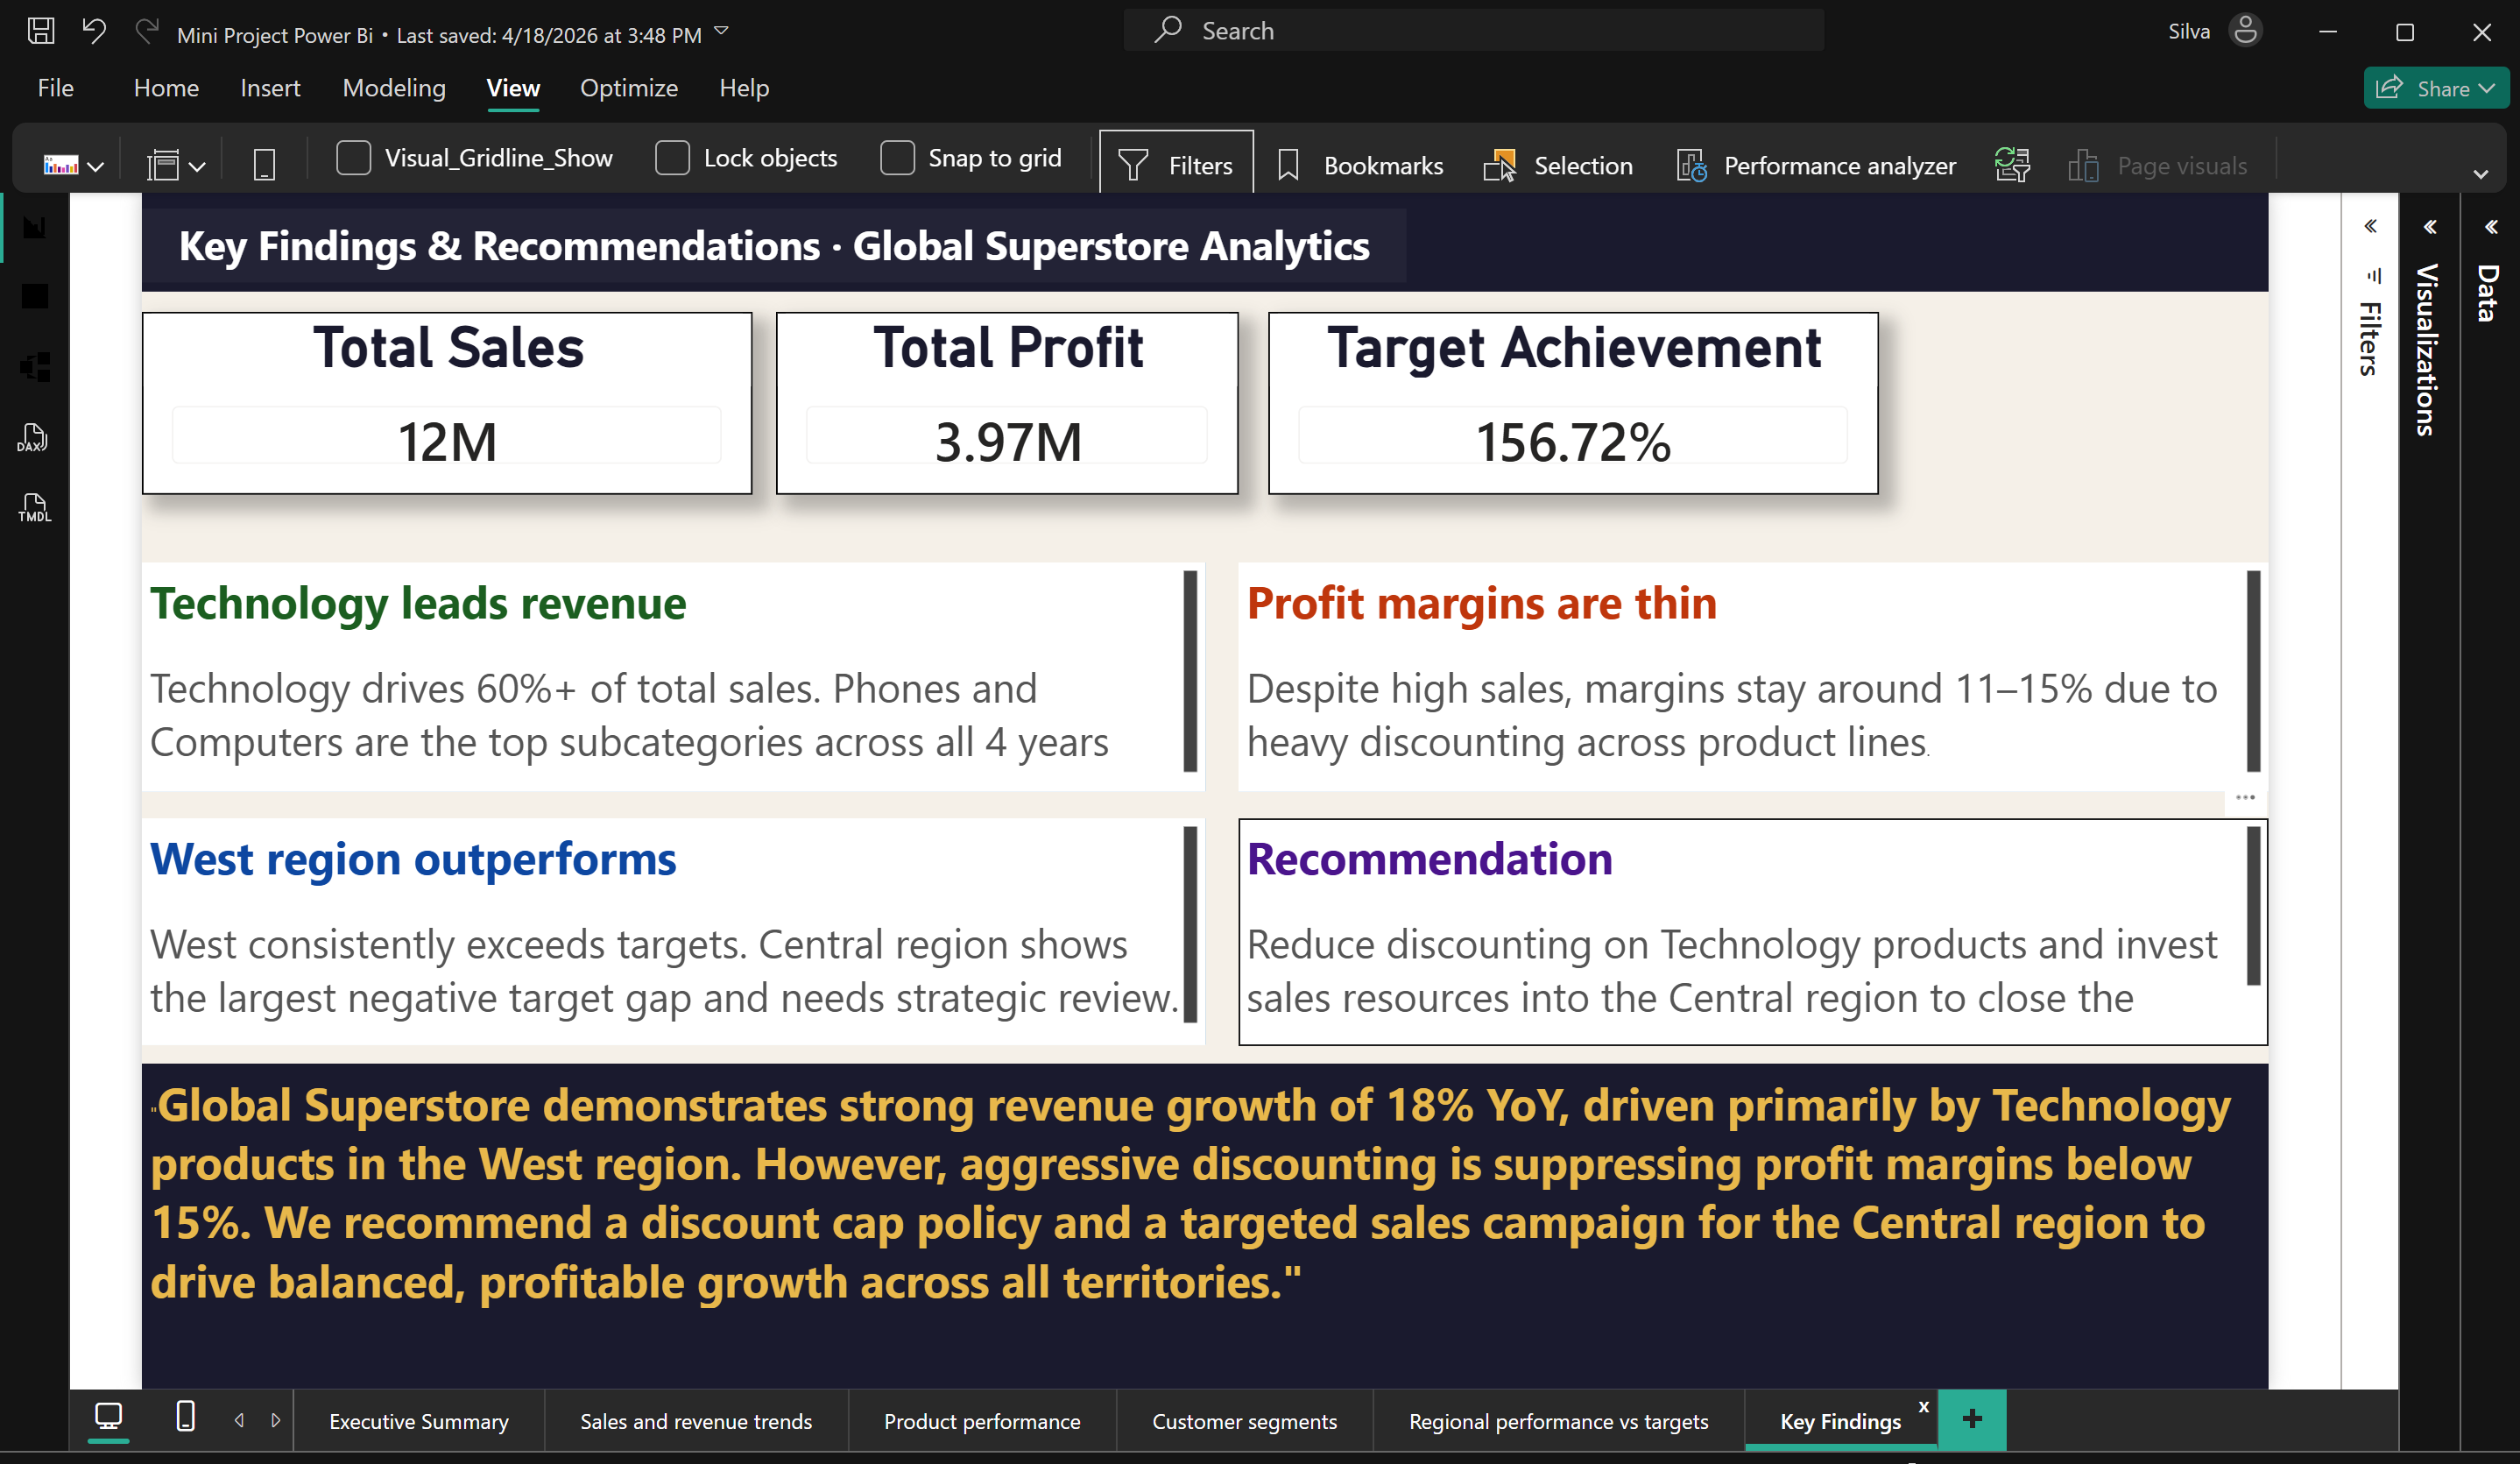

The dashboard page shown, as its layout file describes it:
{"tool":"powerbi","page":{"name":"Key Findings","canvas":[1280,720],"ordinal":5},"visuals":[{"type":"shape","box":[0,0,1280,59.7],"z":0},{"type":"textbox","box":[0,9.2,761,44.4],"z":1000},{"type":"cardVisual","title":"Total Sales","fields":{"Data":["Key Measures.Total Sales"]},"box":[0,72,367.5,110.2],"z":2000},{"type":"cardVisual","title":"Total Profit","fields":{"Data":["Key Measures.Total Profit"]},"box":[381.2,72,278.7,110.2],"z":3000},{"type":"cardVisual","title":"Target Achievement","fields":{"Data":["Key Measures.Target Achievement %"]},"box":[678.3,72,367.5,110.2],"z":4000},{"type":"shape","box":[0,222,640,137.8],"z":5000},{"type":"shape","box":[659.9,222,620.1,137.8],"z":6000},{"type":"shape","box":[0,376.7,640,136.3],"z":7000},{"type":"shape","box":[659.9,477.7,620.1,35.2],"z":8000},{"type":"textbox","box":[0,222,640,137.8],"z":9000},{"type":"textbox","box":[659.9,222,620.1,137.8],"z":10000},{"type":"textbox","box":[0,376.7,640,136.3],"z":11000},{"type":"textbox","box":[659.9,376.7,620.1,136.3],"z":12000},{"type":"shape","box":[0,523.6,1280,196],"z":13000},{"type":"textbox","box":[0,523.6,1280,196],"z":14000}]}

Visuals, with their boxes on the page's 1280x720 design canvas (x1, y1, x2, y2). These are canvas units, not pixel positions in the 2520x1464 screenshot, which may show the page scaled, cropped or inside an application window:
shape: rect(0, 0, 1280, 60)
textbox: rect(0, 9, 761, 54)
"Total Sales" cardVisual: rect(0, 72, 368, 182)
"Total Profit" cardVisual: rect(381, 72, 660, 182)
"Target Achievement" cardVisual: rect(678, 72, 1046, 182)
shape: rect(0, 222, 640, 360)
shape: rect(660, 222, 1280, 360)
shape: rect(0, 377, 640, 513)
shape: rect(660, 478, 1280, 513)
textbox: rect(0, 222, 640, 360)
textbox: rect(660, 222, 1280, 360)
textbox: rect(0, 377, 640, 513)
textbox: rect(660, 377, 1280, 513)
shape: rect(0, 524, 1280, 720)
textbox: rect(0, 524, 1280, 720)
